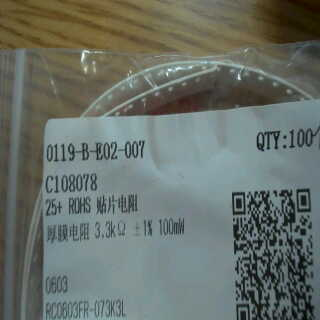3.3kO: (94, 219, 128, 241)
